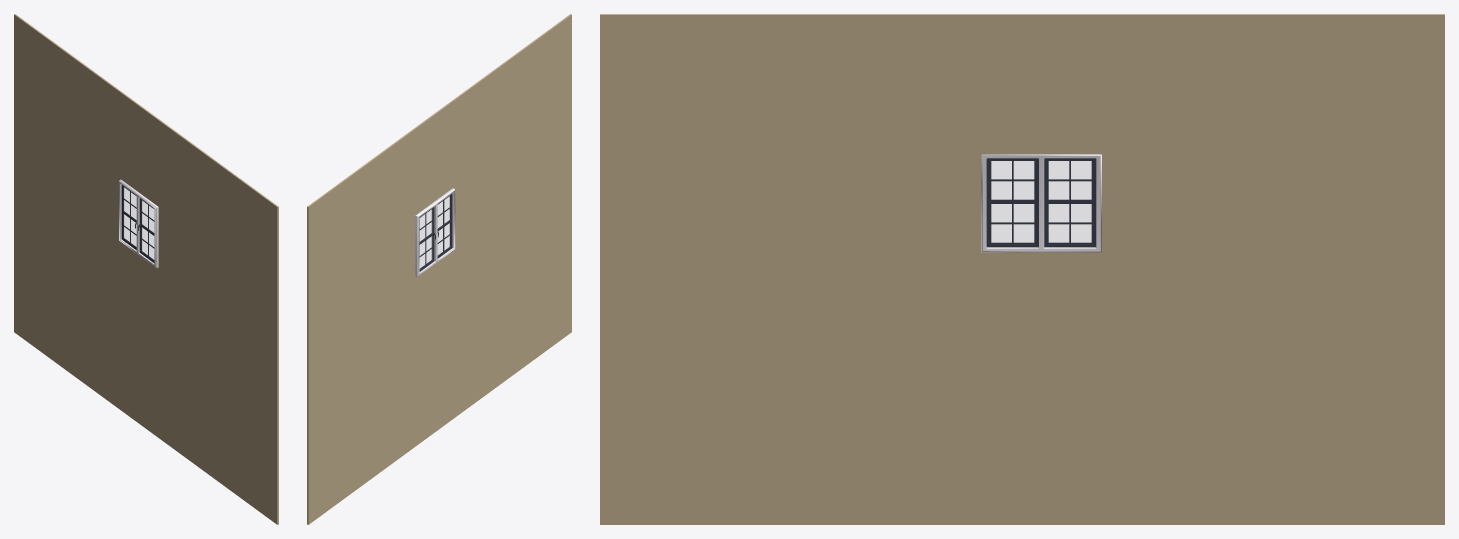
Rendered from wallE.fbx.
The picture shows the model from 3 angles, left to right: view 1: azimuth 30°, elevation 25°; view 2: azimuth 150°, elevation 25°; view 3: azimuth 270°, elevation 25°; orthographic projection. The views are drawn at different scales.
Visible parts, largest first — view 1: wallE, outerframe.002, glass.002, innerframe.002, middleframe.002; view 2: wallE, outerframe.002, glass.002, innerframe.002, middleframe.002; view 3: wallE, glass.002, outerframe.002, middleframe.002, innerframe.002.
Part boxes in pixels (<box>): wallE: <box>14,14,278,524</box>; outerframe.002: <box>119,179,158,267</box>; glass.002: <box>124,188,153,258</box>; innerframe.002: <box>123,186,154,260</box>; middleframe.002: <box>121,185,154,262</box>; wallE: <box>307,14,571,524</box>; outerframe.002: <box>415,188,455,276</box>; glass.002: <box>420,197,449,267</box>; innerframe.002: <box>419,195,450,269</box>; middleframe.002: <box>419,194,452,271</box>; wallE: <box>600,14,1444,524</box>; glass.002: <box>992,161,1090,242</box>; outerframe.002: <box>981,154,1101,252</box>; middleframe.002: <box>986,158,1096,247</box>; innerframe.002: <box>990,160,1092,244</box>.
Size of the model in its own units: 8.46 by 517 by 776.
